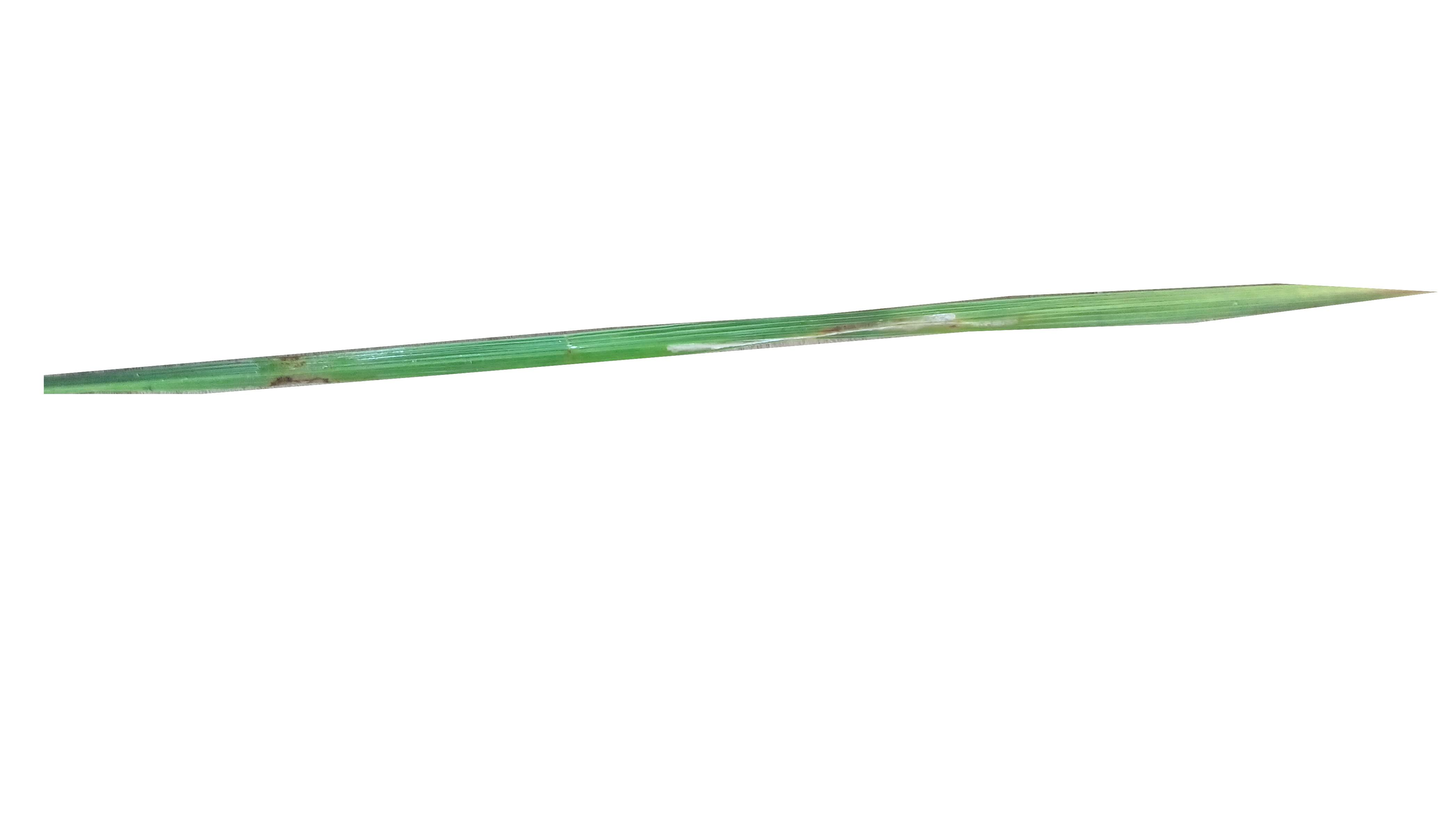Rice blast: (264, 350, 339, 389)
